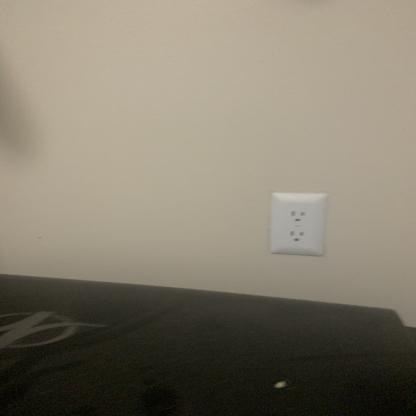OUTLET: (270, 193, 325, 254)
